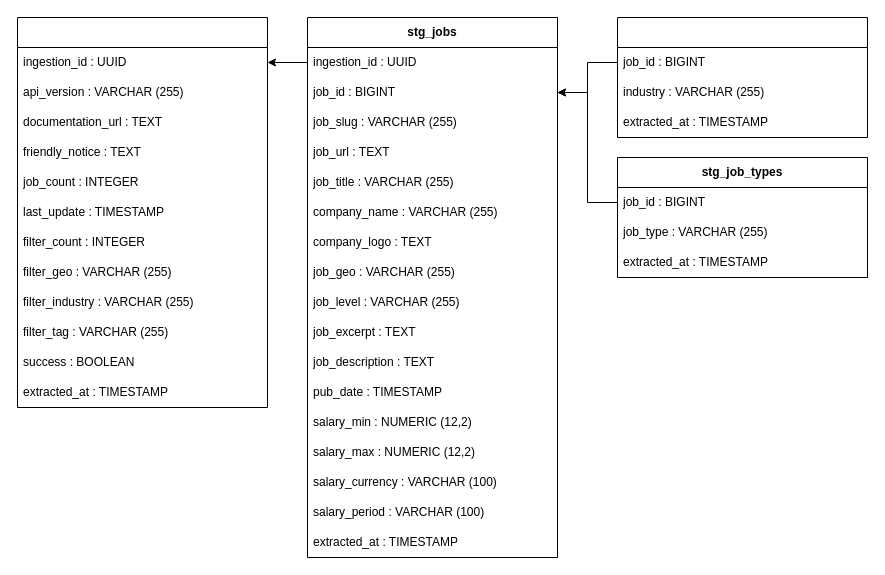
The diagram is 885 pixels wide and 575 high, and some of its shapes have lost their labels. The shapes that lost their labels are listed below. From the top down, each one's box as (x1, y1, x2, y2) in pixels, then its label:
(616, 16, 868, 138): stg_job_industries
(16, 16, 268, 408): stg_api_metadata
